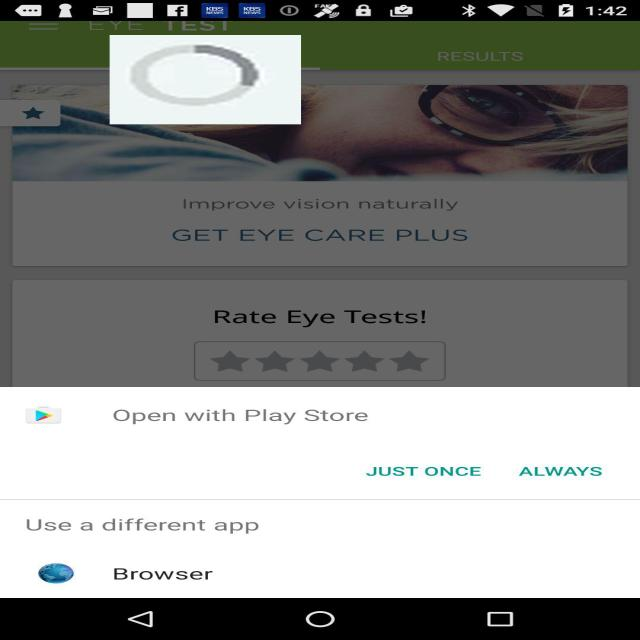misdirection: (110, 35, 301, 124)
